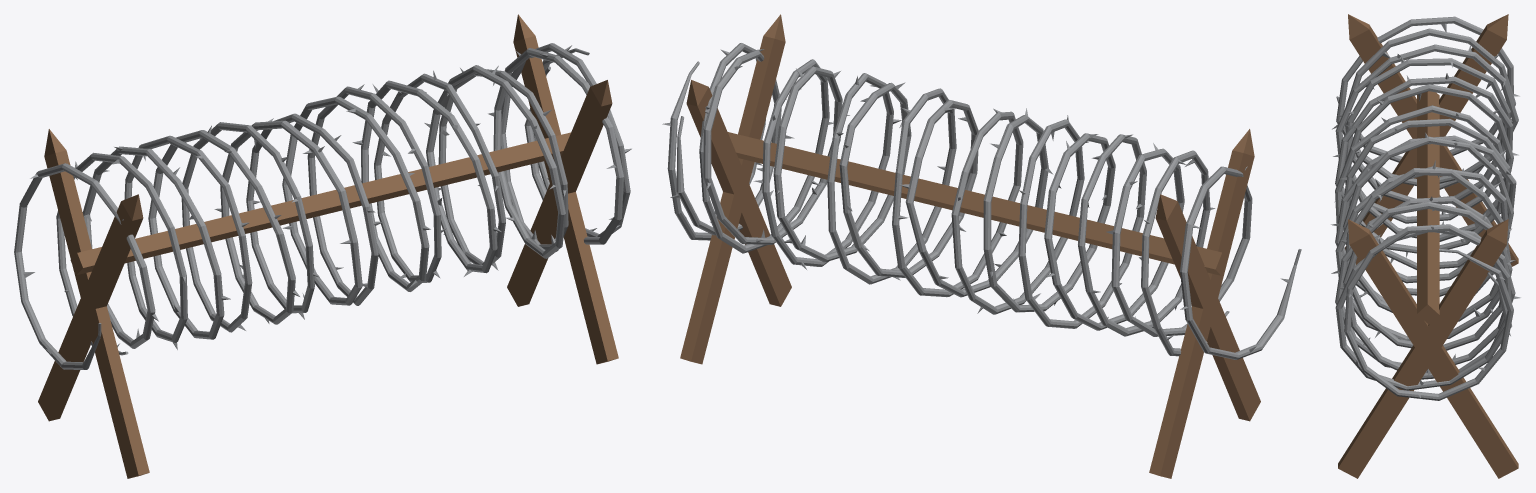
File: Barbwire 2.fbx
3 views of the same model, side by side, from view 1: azimuth 30°, elevation 25°; view 2: azimuth 150°, elevation 25°; view 3: azimuth 270°, elevation 25° (orthographic). The views are drawn at different scales.
Parts seen in each view (by area): view 1: Barb_Wire_2; view 2: Barb_Wire_2; view 3: Barb_Wire_2.
Part boxes in pixels (bbox=[...]): Barb_Wire_2: bbox=[14, 14, 631, 478]; Barb_Wire_2: bbox=[662, 14, 1301, 478]; Barb_Wire_2: bbox=[1331, 14, 1520, 478].
Bounding box in the file's own units: 214 × 108 × 71.8.
